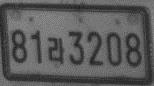0: (105, 31, 122, 66)
1: (29, 30, 43, 65)
2: (86, 29, 105, 66)
3: (67, 29, 85, 66)
8: (10, 29, 28, 63), (125, 32, 141, 67)
라: (47, 34, 65, 65)
